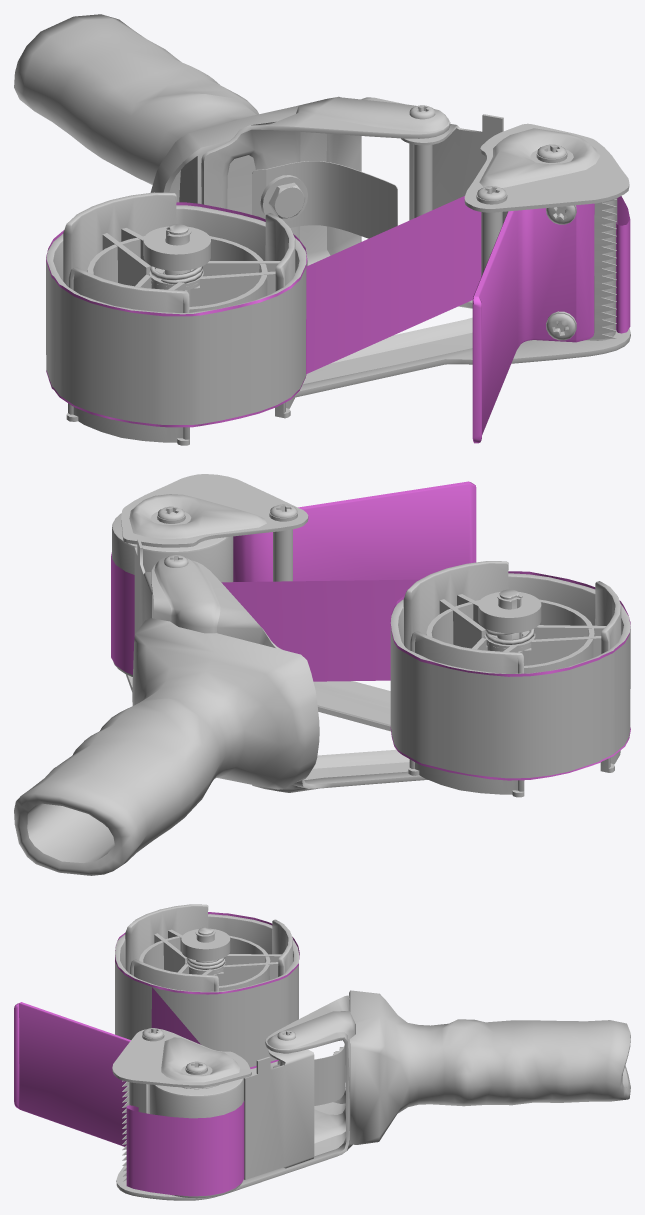
The model's file is TapeRoller.fbx.
3 views of the same model, one above another, from view 1: azimuth 30°, elevation 25°; view 2: azimuth 150°, elevation 25°; view 3: azimuth 270°, elevation 25° (orthographic). The views are drawn at different scales.
Parts seen in each view (by area): view 1: Tape_low, Handle_low, redmetalV-shape_low, Tapepart_low, tapeRoll_low, Wiper_low, Redmetal_low, MetalPlane_low, MetalPart.001_low, Teeth_low, TapeRoll_metalpart_low, MetalPart_low (+5 smaller); view 2: Handle_low, Tape_low, Wiper_low, tapeRoll_low, Tapepart_low, redmetalV-shape_low, Redmetal_low, Aplicationroller_low, TapeRoll_metalpart_low, MetalPart.001_low, MetalPartbigger_low; view 3: Handle_low, Wiper_low, Tape_low, Tapepart_low, tapeRoll_low, MetalPart.001_low, redmetalV-shape_low, Redmetal_low, Aplicationroller_low, MetalPlane_low, TapeRoll_metalpart_low, Aplicationrollermetal_low.
Boxes of the visible parts, x1,y1,x2,y2 form: Tape_low: (46, 202, 307, 427); Handle_low: (14, 14, 361, 242); redmetalV-shape_low: (201, 97, 630, 397); Tapepart_low: (306, 196, 630, 374); tapeRoll_low: (63, 192, 295, 445); Wiper_low: (472, 203, 594, 443); Redmetal_low: (464, 123, 629, 212); MetalPlane_low: (252, 161, 397, 238); MetalPart.001_low: (401, 114, 503, 220); Teeth_low: (589, 199, 616, 339); TapeRoll_metalpart_low: (143, 226, 210, 270); MetalPart_low: (413, 144, 432, 218); Handle_low: (14, 618, 319, 875); Tape_low: (390, 571, 630, 780); Wiper_low: (233, 481, 476, 581); tapeRoll_low: (403, 561, 621, 797); Tapepart_low: (111, 552, 419, 681); redmetalV-shape_low: (125, 556, 427, 792); Redmetal_low: (121, 474, 308, 547); Aplicationroller_low: (112, 513, 233, 676); TapeRoll_metalpart_low: (478, 592, 541, 633); MetalPart.001_low: (134, 539, 154, 636); MetalPartbigger_low: (273, 529, 292, 581); Handle_low: (349, 990, 630, 1144); Wiper_low: (14, 1002, 130, 1146); Tape_low: (115, 912, 299, 1068); Tapepart_low: (126, 987, 244, 1196); tapeRoll_low: (125, 904, 292, 1064); MetalPart.001_low: (244, 1049, 314, 1179); redmetalV-shape_low: (116, 995, 355, 1200); Redmetal_low: (112, 1029, 251, 1087); Aplicationroller_low: (149, 1078, 243, 1198); MetalPlane_low: (273, 1043, 345, 1105); TapeRoll_metalpart_low: (181, 928, 230, 961); Aplicationrollermetal_low: (129, 1082, 149, 1113).
Bounding box in the file's own units: 311 × 103 × 425.
